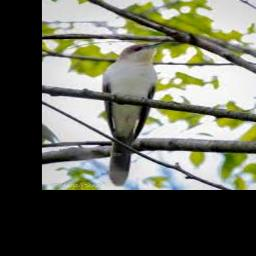Cuckoo: (104, 42, 166, 186)
